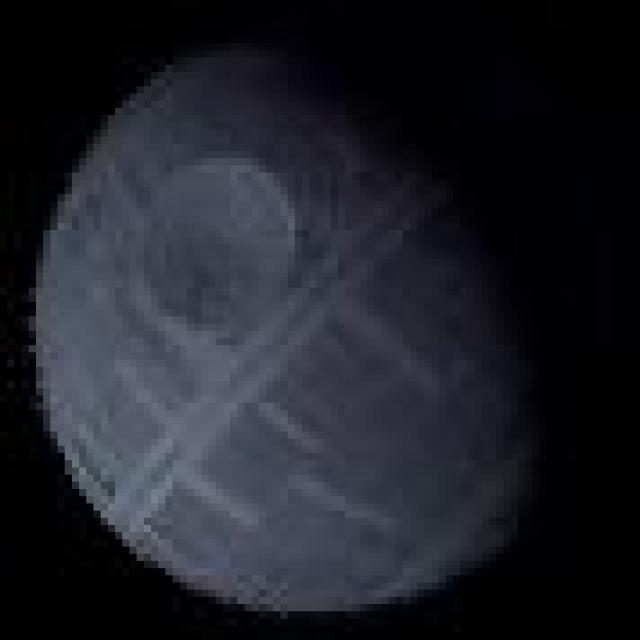Death Star: (14, 36, 540, 618)
